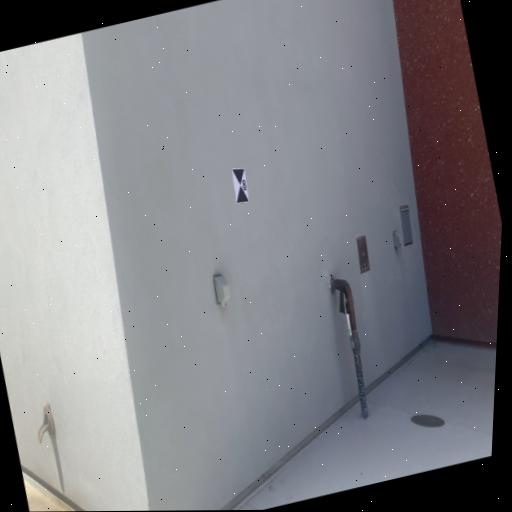target8: (229, 165, 253, 206)
